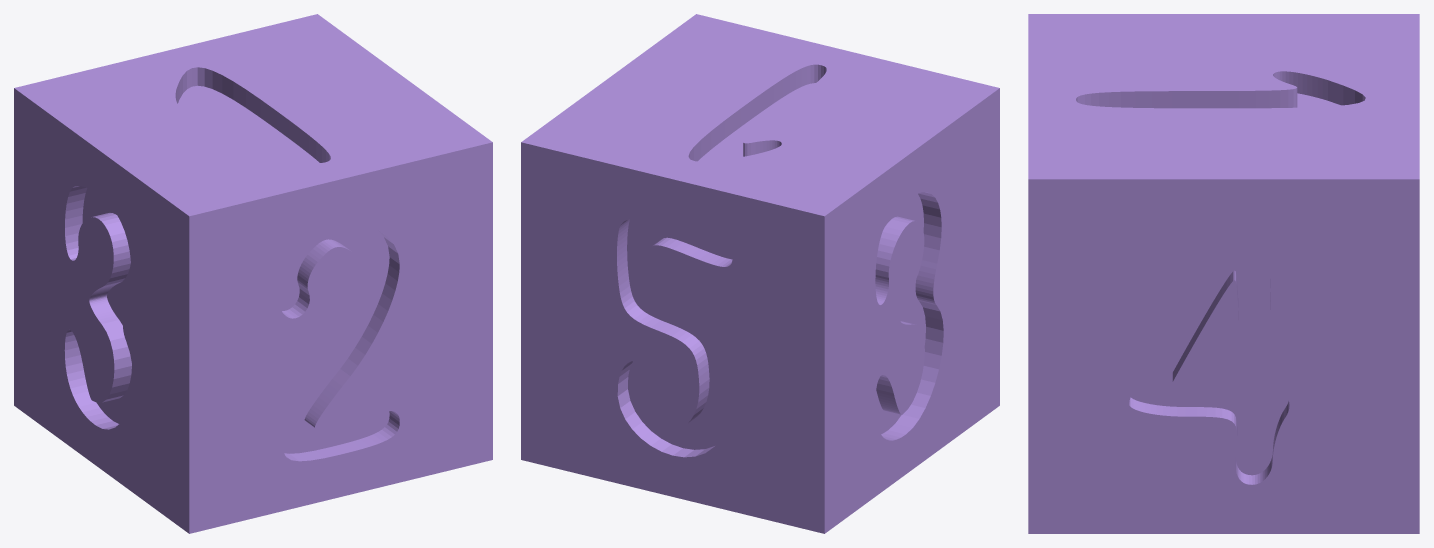
Rendered from DiceD6.gltf.
3 views of the same model, side by side, from view 1: azimuth 30°, elevation 25°; view 2: azimuth 150°, elevation 25°; view 3: azimuth 270°, elevation 25° (orthographic). The views are drawn at different scales.
Visible parts, largest first — view 1: Cube.001; view 2: Cube.001; view 3: Cube.001.
Boxes of the visible parts, <box> form: Cube.001: <box>14,14,492,533</box>; Cube.001: <box>521,14,999,533</box>; Cube.001: <box>1028,14,1419,533</box>.
Bounding box in the file's own units: 16 × 16 × 16.
